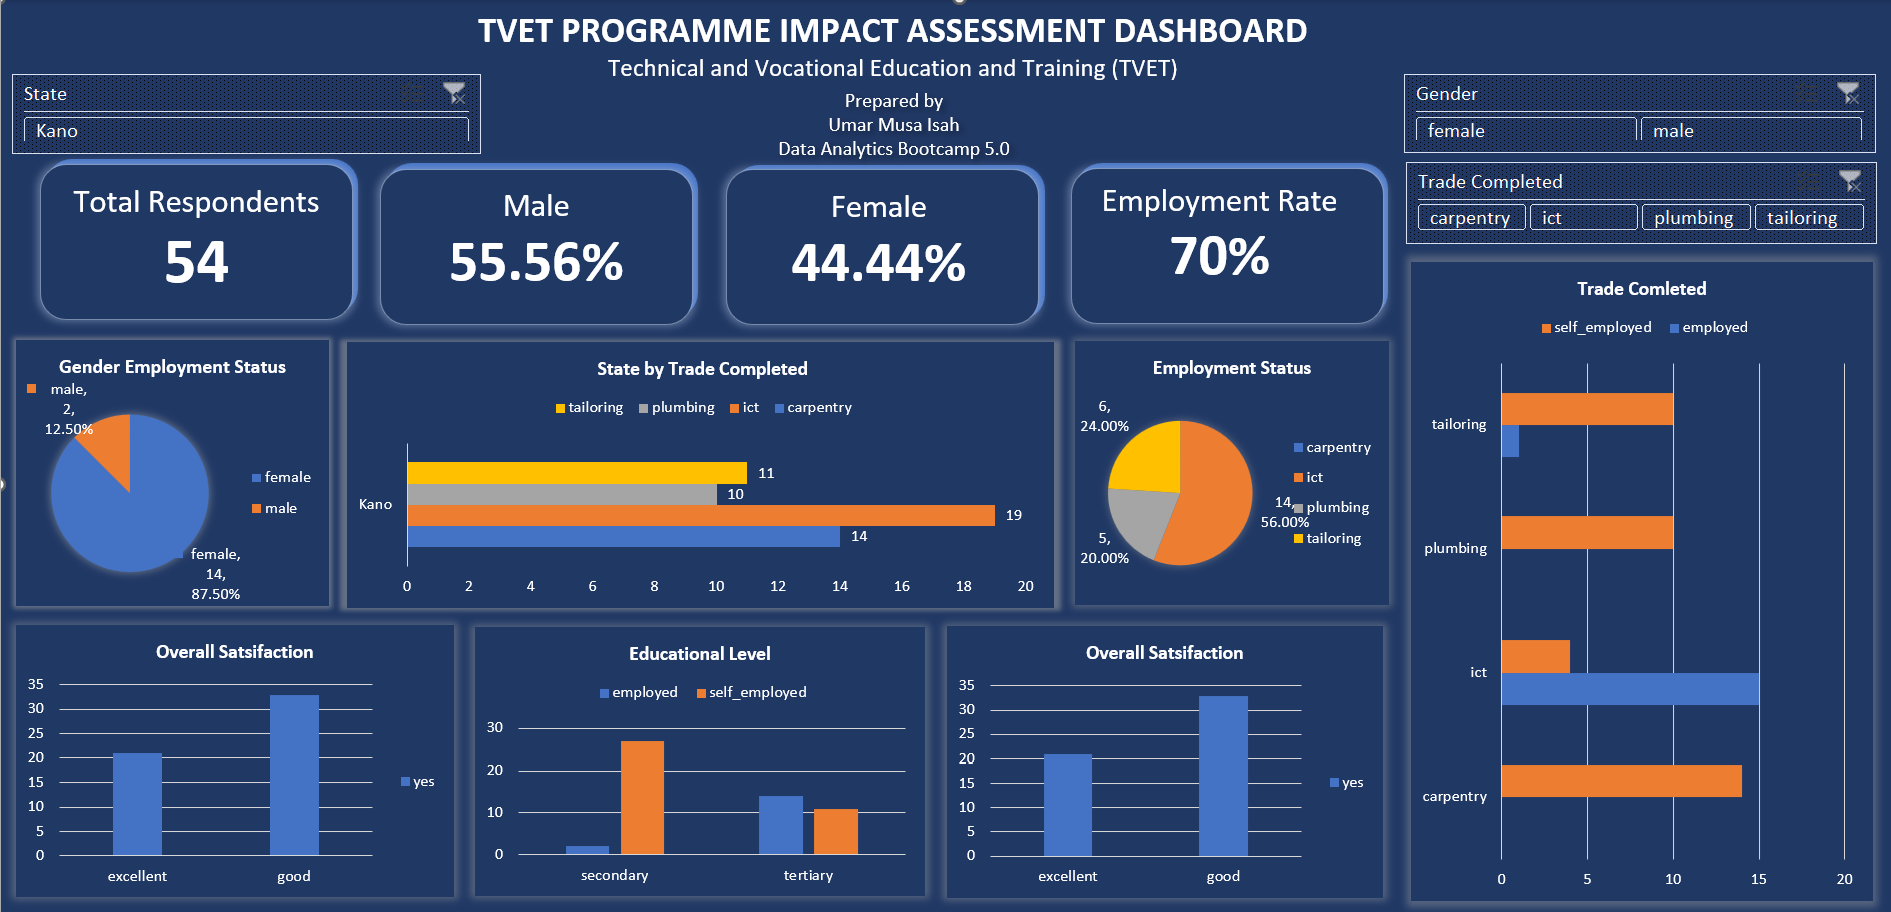

What the dashboard file says about the page in this screenshot:
{"tool":"powerbi","page":{"name":"dashboard","canvas":[1280,720],"ordinal":0},"visuals":[{"type":"card","title":"Male","fields":{"Values":["Measure_Hub.Male %"]},"box":[652.1,138.5,181.4,120.9],"z":0},{"type":"card","title":"Female","fields":{"Values":["Measure_Hub.Female %"]},"box":[857.4,138.5,181.4,120.9],"z":1000},{"type":"card","title":"Employment Rate","fields":{"Values":["Measure_Hub.Employment Rate"]},"box":[1064.2,138.5,181.4,120.9],"z":2000},{"type":"card","title":"Total Respondents","fields":{"Values":["Measure_Hub.Total Respondents"]},"box":[446.1,138.5,181.4,120.9],"z":3000},{"type":"pieChart","title":"Gender Distribution","fields":{"Category":["01_Cleaned_Data.Gender"],"Y":["CountNonNull(01_Cleaned_Data.Respondent ID)"]},"box":[15.6,273.4,357.9,209.5],"z":4000},{"type":"clusteredBarChart","title":"Trade Completed","fields":{"Category":["01_Cleaned_Data.Trade Completed"],"Y":["CountNonNull(01_Cleaned_Data.Respondent ID)"]},"box":[386.5,497.1,503.6,217.3],"z":5000},{"type":"clusteredColumnChart","title":"Employment Status","fields":{"Category":["01_Cleaned_Data.Employment Status"],"Y":["CountNonNull(01_Cleaned_Data.Respondent ID)"]},"box":[904.4,497.2,357.9,217.3],"z":6000},{"type":"donutChart","title":"Education Level","fields":{"Category":["01_Cleaned_Data.Education Level"],"Y":["CountNonNull(01_Cleaned_Data.Respondent ID)"]},"box":[904.4,273.4,357.9,209.5],"z":7000},{"type":"columnChart","title":"Overall Satisfaction","fields":{"Category":["01_Cleaned_Data.Overall Satisfaction"],"Y":["CountNonNull(01_Cleaned_Data.Respondent ID)"]},"box":[15.6,497.2,357.9,217.3],"z":8000},{"type":"barChart","title":"Recommend Programme","fields":{"Category":["01_Cleaned_Data.Recommend Programme"],"Y":["CountNonNull(01_Cleaned_Data.Respondent ID)"]},"box":[386.5,273.4,235.5,209.5],"z":9000},{"type":"textbox","box":[164,0.2,868,53.4],"z":10000},{"type":"columnChart","title":"Future Participation","fields":{"Category":["01_Cleaned_Data.Future Participation"],"Y":["CountNonNull(01_Cleaned_Data.Respondent ID)"]},"box":[636.3,273.4,253.8,209.5],"z":11000},{"type":"slicer","fields":{"Values":["01_Cleaned_Data.State"]},"box":[1139.5,8.8,122.4,59.3],"z":12000},{"type":"slicer","fields":{"Values":["01_Cleaned_Data.Gender"]},"box":[1015.9,8.8,128.7,59.3],"z":13000},{"type":"slicer","fields":{"Values":["01_Cleaned_Data.Trade Completed"]},"box":[890.4,74.3,178.8,57.9],"z":14000},{"type":"slicer","fields":{"Values":["01_Cleaned_Data.Employment Status"]},"box":[1070.5,73,191.4,57.9],"z":15000},{"type":"textbox","box":[507.6,77,124.9,52.1],"z":16000},{"type":"textbox","box":[311.1,43.1,536.1,33.8],"z":17000},{"type":"image","box":[15.1,37.9,70.7,70.7],"z":18000},{"type":"image","box":[93.4,37.9,70.7,70.7],"z":19000},{"type":"card","title":"Refresh","fields":{"Values":["Measure_Hub.Last Refresh"]},"box":[237.8,138.5,181.4,120.9],"z":20000},{"type":"card","fields":{"Values":["Measure_Hub.Respondent Tex"]},"box":[29.2,138.5,181.4,120.9],"z":21000},{"type":"image","box":[1064,161.8,34.8,31.1],"z":22000},{"type":"image","box":[650.9,154.3,41.1,44.8],"z":23000},{"type":"image","box":[445.5,161.8,39.8,41.1],"z":24000},{"type":"image","box":[857.5,154.3,43.6,44.8],"z":25000}]}

Visuals, with their boxes on the page's 1280x720 design canvas (x1, y1, x2, y2). These are canvas units, not pixel positions in the 1891x912 screenshot, which may show the page scaled, cropped or inside an application window:
"Male" card: 652 138 834 259
"Female" card: 857 138 1039 259
"Employment Rate" card: 1064 138 1246 259
"Total Respondents" card: 446 138 628 259
"Gender Distribution" pieChart: 16 273 374 483
"Trade Completed" clusteredBarChart: 386 497 890 714
"Employment Status" clusteredColumnChart: 904 497 1262 714
"Education Level" donutChart: 904 273 1262 483
"Overall Satisfaction" columnChart: 16 497 374 714
"Recommend Programme" barChart: 386 273 622 483
textbox: 164 0 1032 54
"Future Participation" columnChart: 636 273 890 483
slicer - 01_Cleaned_Data.State: 1140 9 1262 68
slicer - 01_Cleaned_Data.Gender: 1016 9 1145 68
slicer - 01_Cleaned_Data.Trade Completed: 890 74 1069 132
slicer - 01_Cleaned_Data.Employment Status: 1070 73 1262 131
textbox: 508 77 632 129
textbox: 311 43 847 77
image: 15 38 86 109
image: 93 38 164 109
"Refresh" card: 238 138 419 259
card - Measure_Hub.Respondent Tex: 29 138 211 259
image: 1064 162 1099 193
image: 651 154 692 199
image: 446 162 485 203
image: 858 154 901 199
